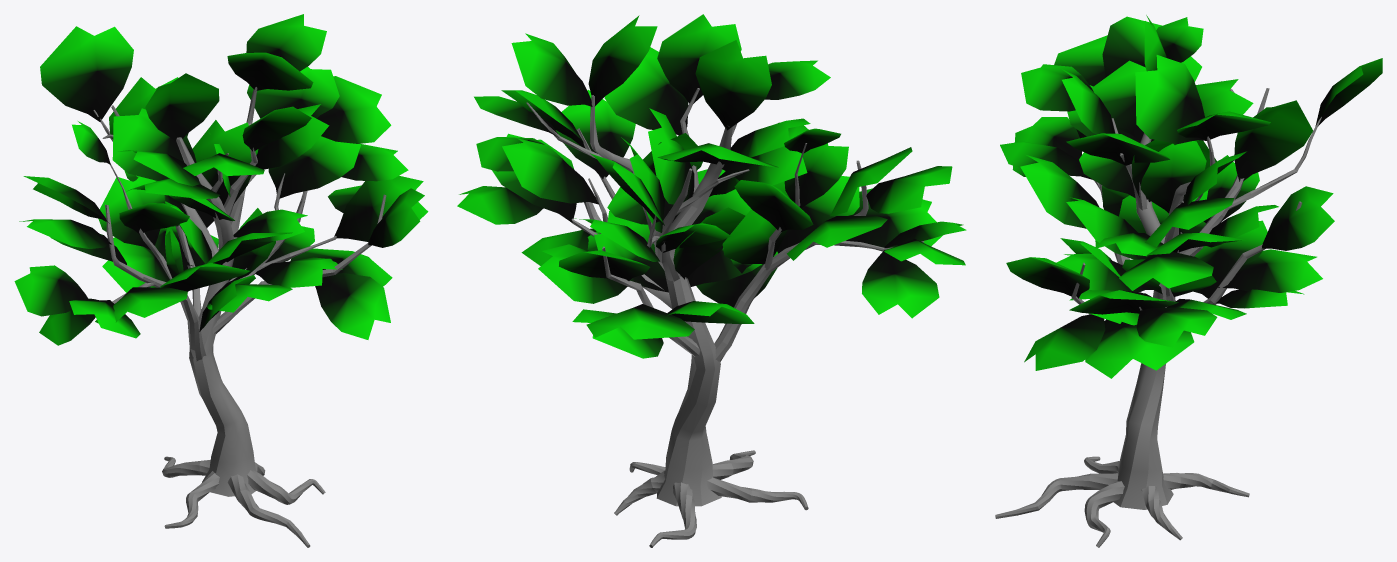
Rendered from Tree.fbx.
The picture shows the model from 3 angles, left to right: view 1: azimuth 30°, elevation 25°; view 2: azimuth 150°, elevation 25°; view 3: azimuth 270°, elevation 25°; orthographic projection. The views are drawn at different scales.
Parts seen in each view (by area): view 1: leaves, tree; view 2: leaves, tree; view 3: leaves, tree.
Part boxes in pixels (bbox=[...]): leaves: bbox=[14, 14, 428, 345]; tree: bbox=[93, 87, 386, 547]; leaves: bbox=[457, 14, 966, 358]; tree: bbox=[526, 88, 923, 547]; leaves: bbox=[1000, 15, 1382, 378]; tree: bbox=[995, 81, 1321, 547].
Size of the model in its own units: 297 by 297 by 221.
